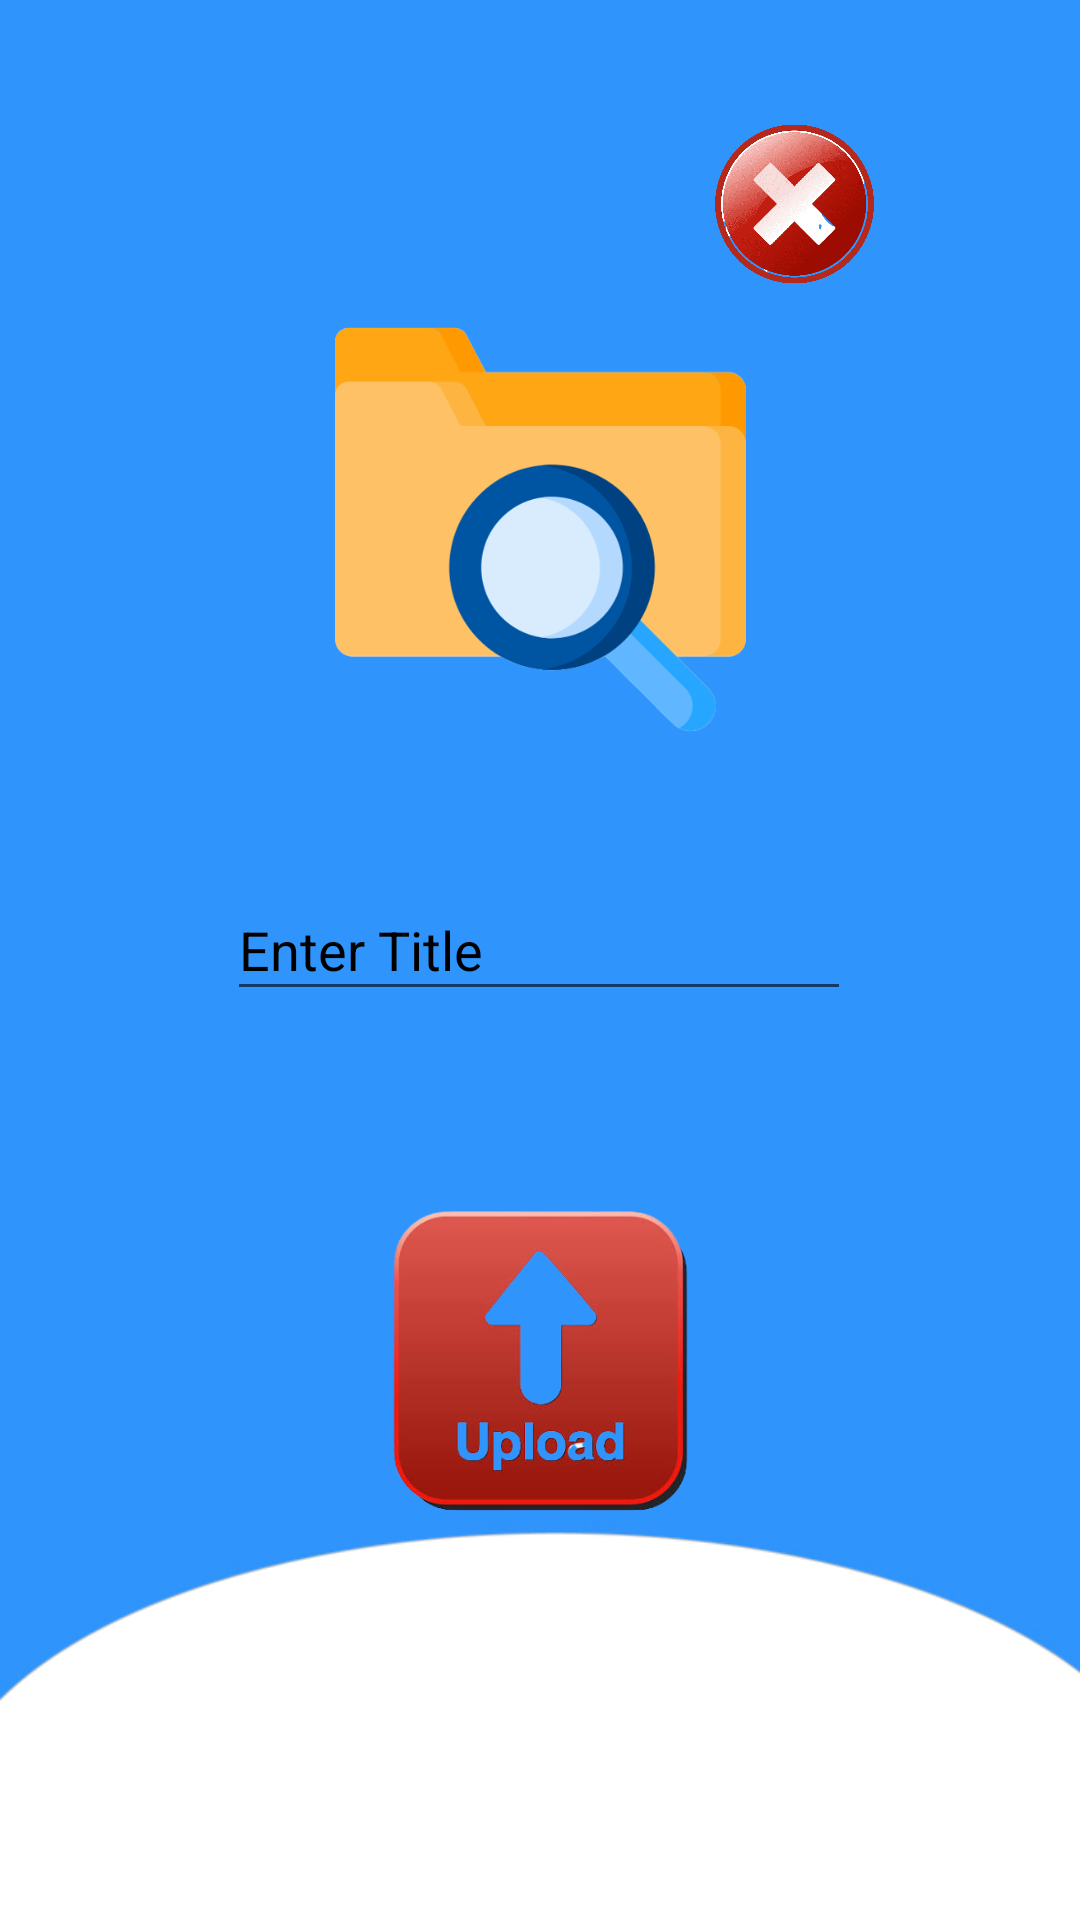

Locate icon controls on the screen. Image size 1080 x 1920, boxes as (x1, y1, x2, y2).
cancel: (715, 125, 874, 284)
